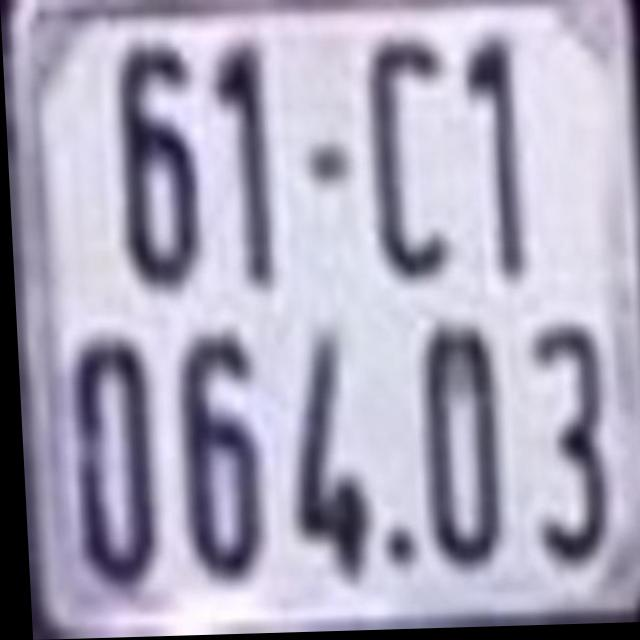0: (66, 334, 160, 584), (414, 321, 502, 569)
1: (209, 42, 288, 292), (462, 38, 540, 282)
3: (521, 323, 609, 566)
4: (284, 336, 373, 585)
6: (107, 37, 214, 293), (175, 326, 266, 579)
C: (364, 35, 461, 292)
